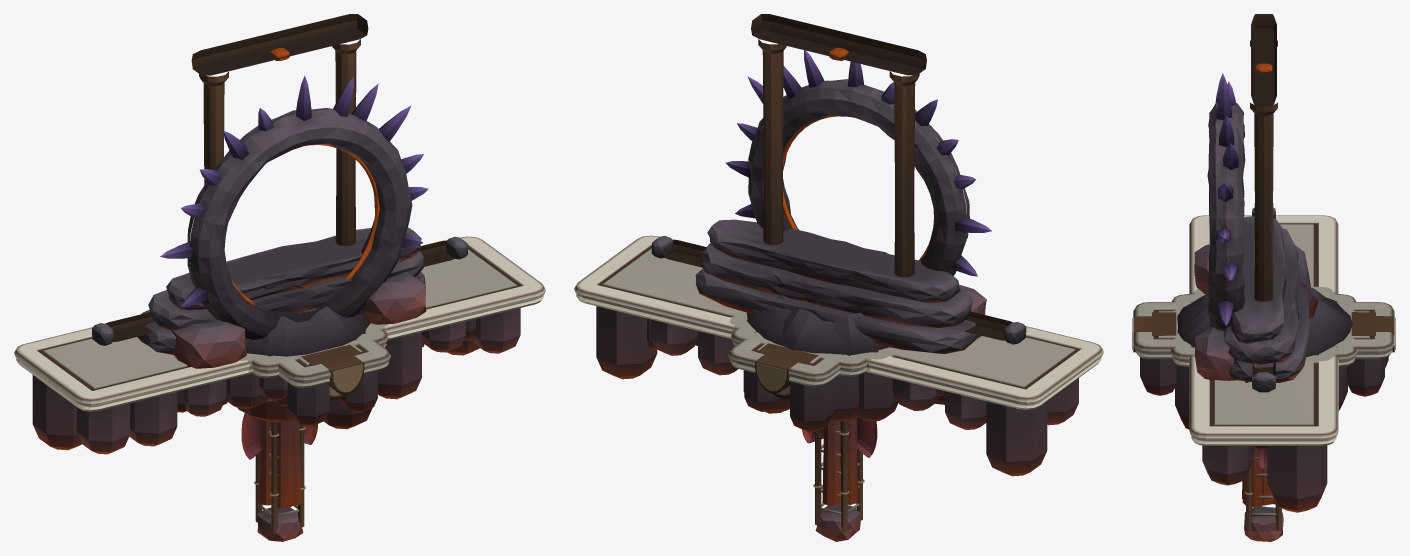
File: volcano-6-BfZy4jhH.glb
The picture shows the model from 3 angles, left to right: view 1: azimuth 30°, elevation 25°; view 2: azimuth 150°, elevation 25°; view 3: azimuth 270°, elevation 25°; orthographic projection. The views are drawn at different scales.
Visible parts, largest first — view 1: block_28x2x8#0, portal_#0, pressFrame_6x6x2x7#0, spout_13.5x2#0, block_6x2x14_ice#0, spout_6x2#0, geyserVent_5#0, support_0_square#0, truss_11.6#0, block_8x2x10#0, mount_10.6#0, beam_2x1.5x14#0 (+3 smaller); view 2: block_28x2x8#0, spout_13.5x2#0, portal_#0, pressFrame_6x6x2x7#0, block_6x2x14_ice#0, spout_6x2#0, geyserVent_5#0, truss_11.6#0, support_0_square#0, block_8x2x10#0, mount_10.6#0, block_10x2x8#0 (+2 smaller); view 3: block_28x2x8#0, portal_#0, spout_13.5x2#0, pressFrame_6x6x2x7#0, block_6x2x14_ice#0, geyserVent_5#0, block_8x2x10#0, truss_11.6#0, beam_2x1.5x14#0, spout_6x2#0, support_0_square#0, mount_10.6#0 (+2 smaller).
Boxes of the visible parts, x1,y1,x2,y2 form: block_28x2x8#0: [14, 236, 545, 454]; portal_#0: [160, 75, 428, 368]; pressFrame_6x6x2x7#0: [191, 14, 368, 246]; spout_13.5x2#0: [137, 227, 425, 354]; block_6x2x14_ice#0: [269, 333, 390, 426]; spout_6x2#0: [240, 239, 352, 311]; geyserVent_5#0: [246, 306, 370, 356]; support_0_square#0: [258, 419, 301, 508]; truss_11.6#0: [254, 422, 305, 541]; block_8x2x10#0: [251, 328, 388, 429]; mount_10.6#0: [92, 236, 467, 345]; beam_2x1.5x14#0: [309, 346, 364, 394]; block_28x2x8#0: [574, 235, 1103, 476]; spout_13.5x2#0: [695, 219, 981, 354]; portal_#0: [725, 50, 991, 314]; pressFrame_6x6x2x7#0: [751, 14, 926, 277]; block_6x2x14_ice#0: [728, 332, 845, 431]; spout_6x2#0: [768, 237, 889, 321]; geyserVent_5#0: [747, 295, 889, 355]; truss_11.6#0: [813, 420, 864, 541]; support_0_square#0: [822, 418, 858, 505]; block_8x2x10#0: [731, 327, 877, 421]; mount_10.6#0: [651, 236, 1026, 344]; block_10x2x8#0: [729, 311, 898, 421]; block_28x2x8#0: [1189, 215, 1338, 512]; portal_#0: [1194, 73, 1245, 380]; spout_13.5x2#0: [1224, 216, 1311, 382]; pressFrame_6x6x2x7#0: [1250, 14, 1277, 301]; block_6x2x14_ice#0: [1133, 302, 1394, 396]; geyserVent_5#0: [1177, 282, 1353, 357]; block_8x2x10#0: [1170, 294, 1357, 429]; truss_11.6#0: [1244, 457, 1283, 541]; beam_2x1.5x14#0: [1132, 316, 1395, 352]; spout_6x2#0: [1242, 249, 1311, 319]; support_0_square#0: [1242, 447, 1275, 507]; mount_10.6#0: [1252, 208, 1275, 392].
Size of the model in its own units: 28 by 28.76 by 14.12.
